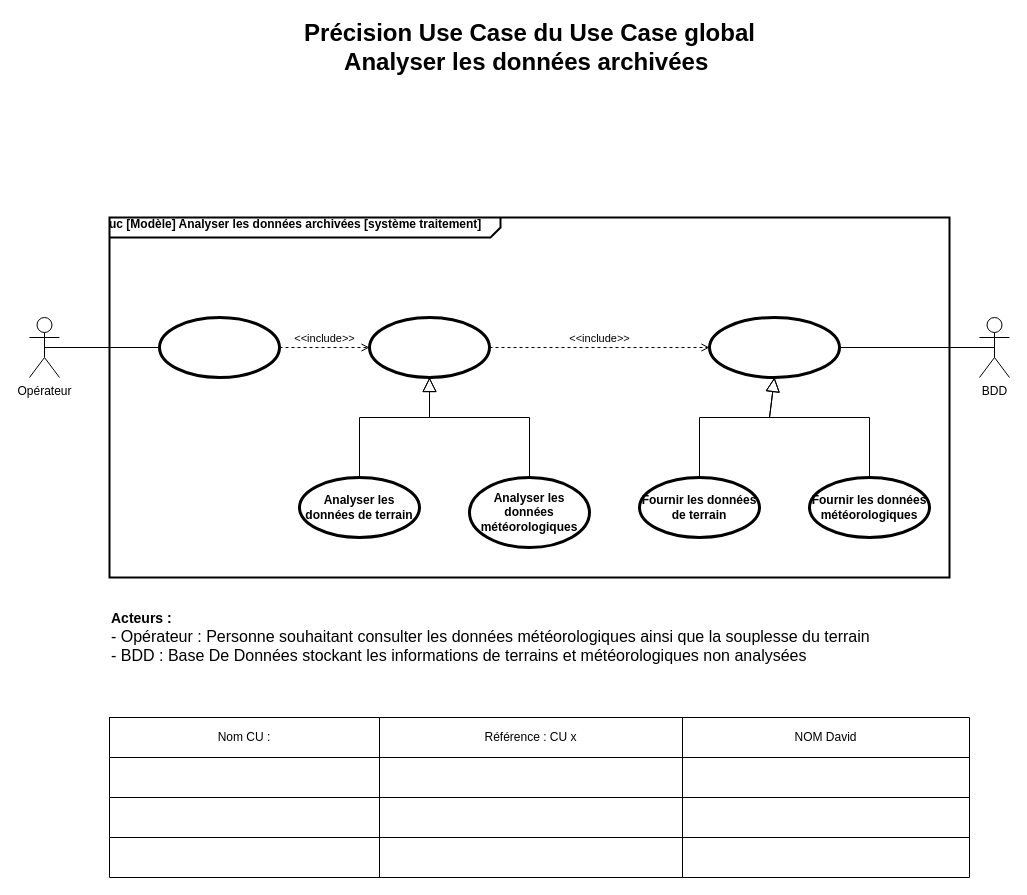
Image size: 1027x895. Some labels were removed from this diagram. The shapes that lost their labels are listed below. From the top down, each one's centre as x and y in pixels, then its label:
At pixel 219 347: "Demande de consultation des données".
At pixel 429 347: "Analyser les données".
At pixel 774 347: "Fournir les données archivées".
